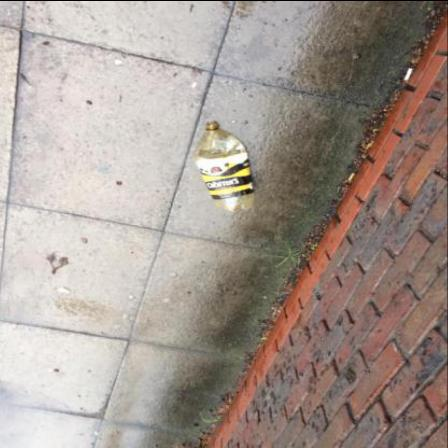Bottle: (194, 122, 256, 212)
Cigarette: (405, 69, 413, 81), (350, 173, 357, 181)
